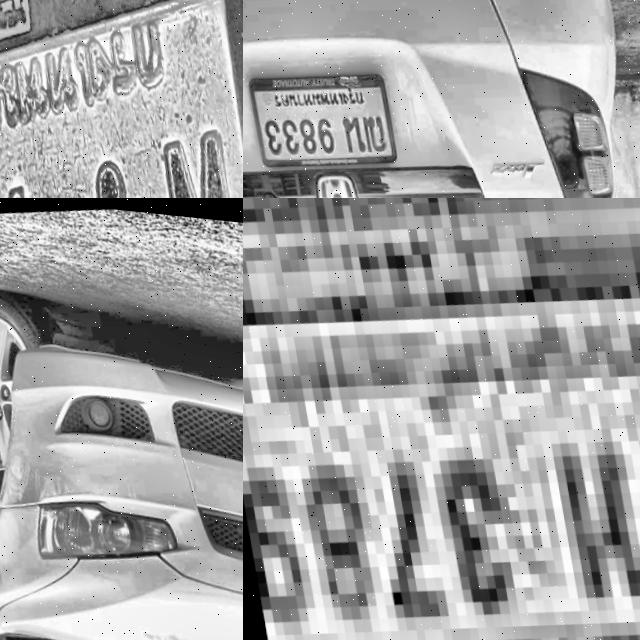license-plate: (243, 198, 640, 640), (0, 0, 243, 198), (243, 49, 397, 175)
